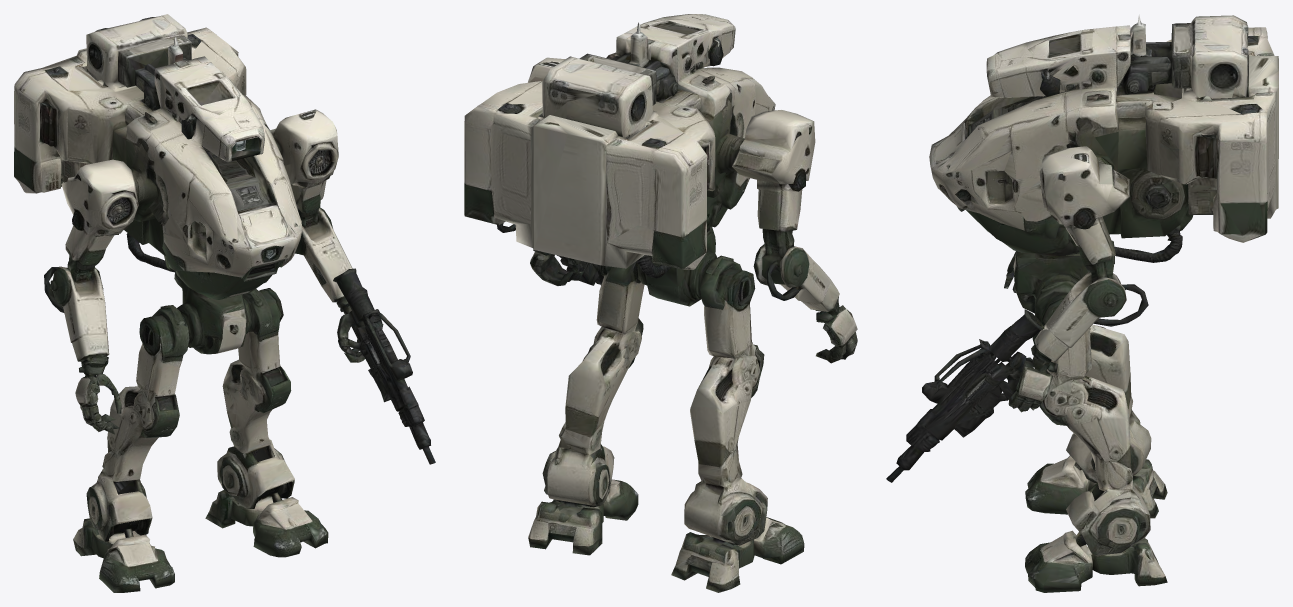
File: t243_med_lod0.glb
The picture shows the model from 3 angles, left to right: view 1: azimuth 30°, elevation 25°; view 2: azimuth 150°, elevation 25°; view 3: azimuth 270°, elevation 25°; orthographic projection. The views are drawn at different scales.
Bounding box in the file's own units: 1.14 × 1.85 × 1.25.
Materials: 1 (1 with a texture image).
